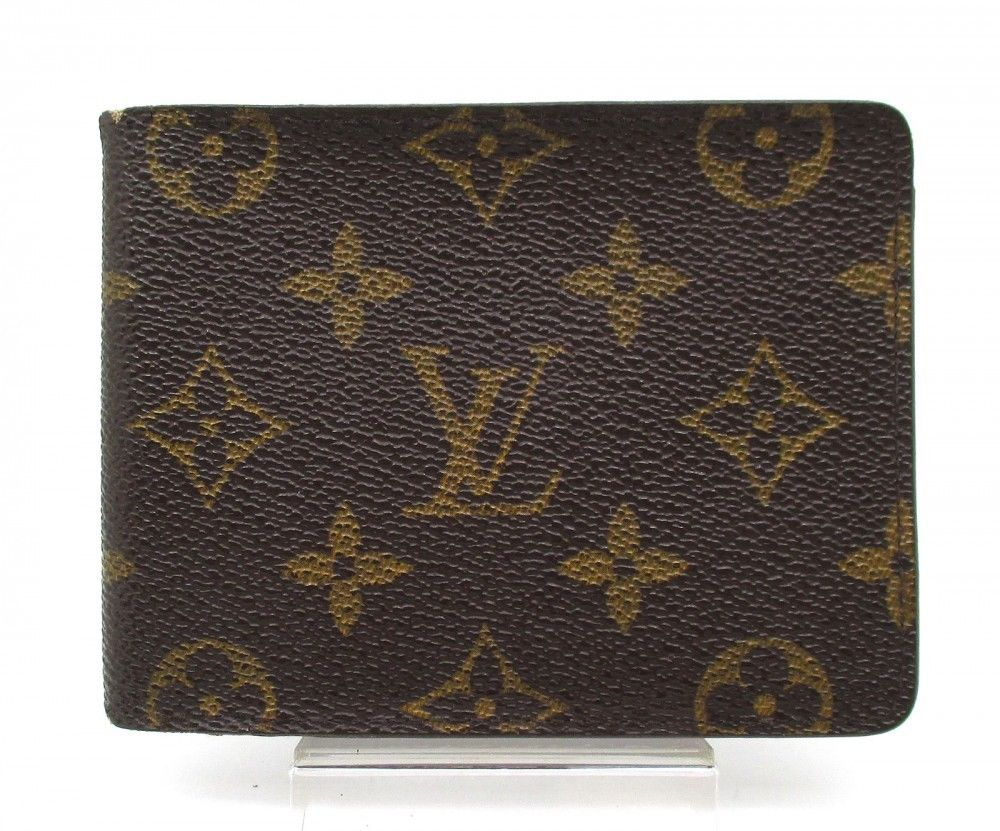LOUIS-VUITTON: (393, 330, 567, 524)
